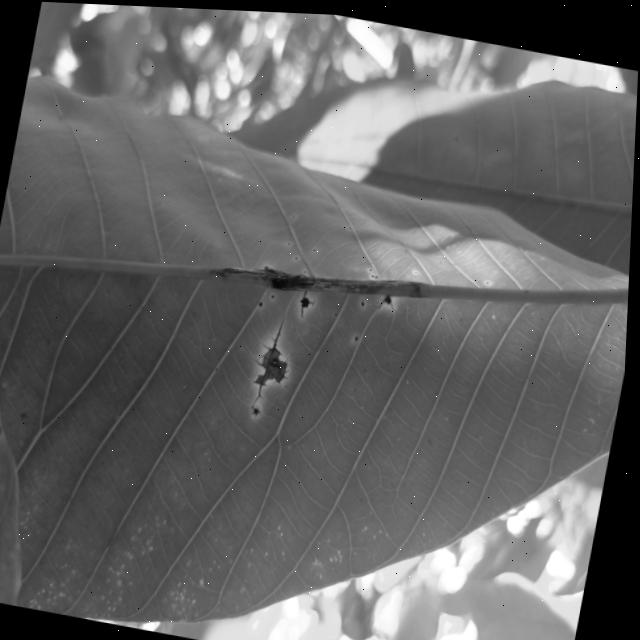Colletotrichum: (363, 297, 368, 302), (262, 299, 266, 303), (274, 291, 277, 296), (374, 271, 377, 273), (298, 254, 300, 256), (316, 245, 318, 247), (338, 310, 340, 312), (342, 318, 344, 320), (380, 298, 382, 300), (378, 272, 380, 274), (372, 265, 374, 267)
Corynespora: (249, 311, 303, 419), (299, 285, 320, 316)
